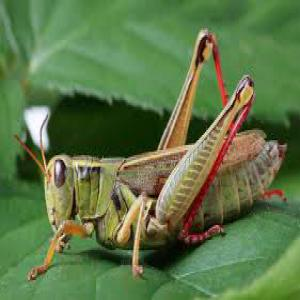locust: (18, 41, 296, 291)
